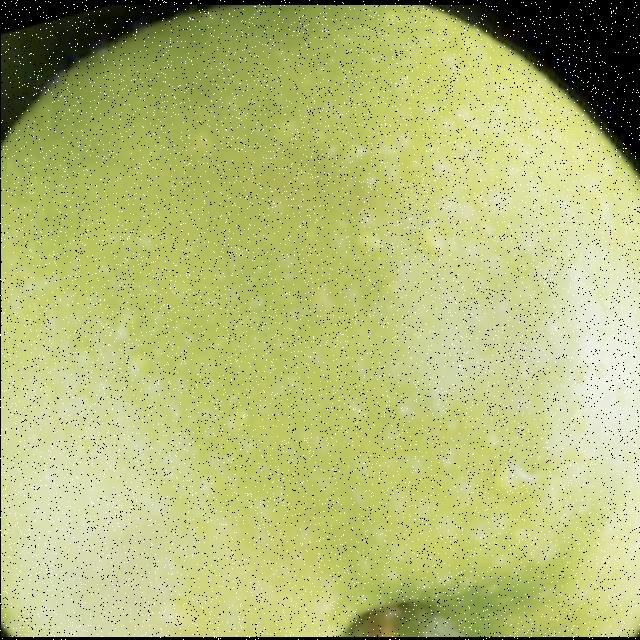Apel Segar: (0, 10, 640, 636)
